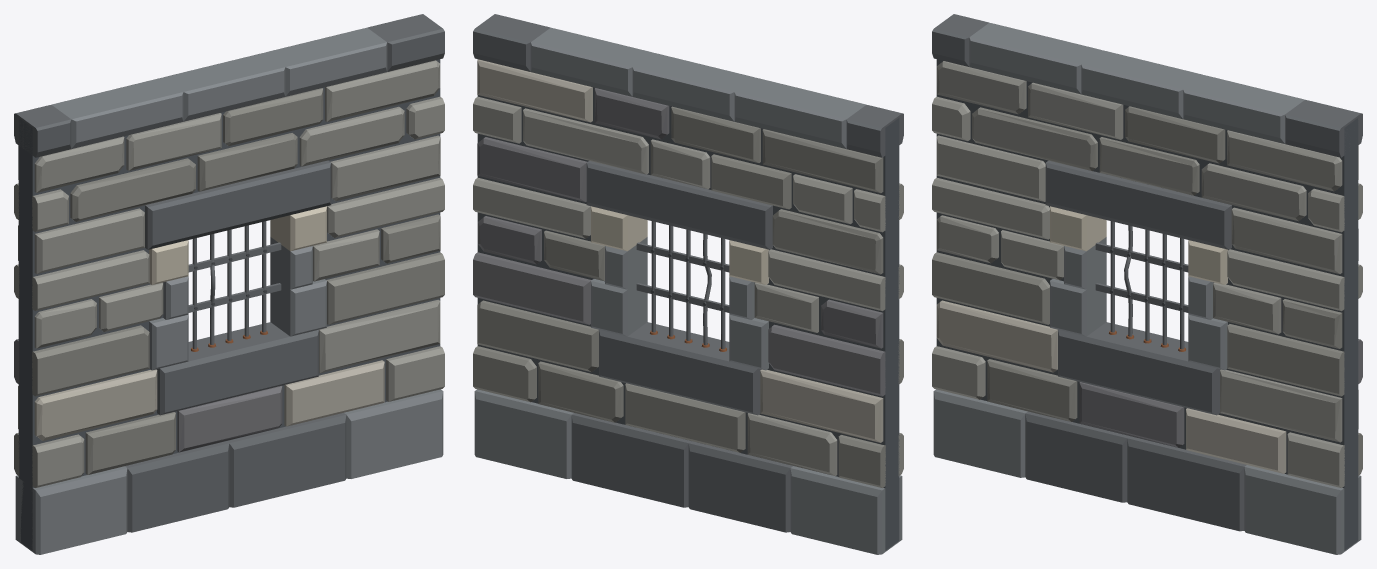
Rendered from SM_LPD_Struct_WallBarred_01.fbx.
3 views of the same model, side by side, from view 1: azimuth 30°, elevation 25°; view 2: azimuth 150°, elevation 25°; view 3: azimuth 330°, elevation 25° (orthographic).
Visible parts, largest first — view 1: SM_LPD_Struct_WallBarred_01; view 2: SM_LPD_Struct_WallBarred_01; view 3: SM_LPD_Struct_WallBarred_01.
Boxes of the visible parts, left/top/right/bottom form: SM_LPD_Struct_WallBarred_01: left=14, top=14, right=444, bottom=554; SM_LPD_Struct_WallBarred_01: left=473, top=14, right=903, bottom=554; SM_LPD_Struct_WallBarred_01: left=932, top=14, right=1362, bottom=554.
Size of the model in its own units: 4 by 4 by 0.4.
